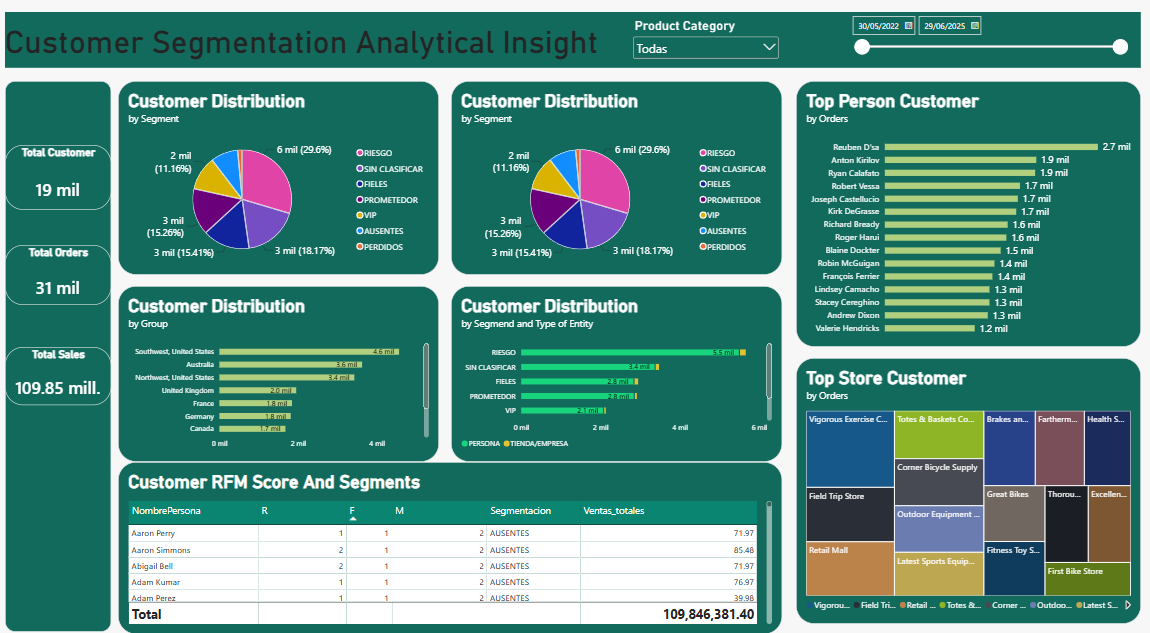

What the dashboard file says about the page in this screenshot:
{"tool":"powerbi","page":{"name":"Análisis de Clientes","canvas":[1920,1080],"ordinal":1},"visuals":[{"type":"textbox","box":[11.7,145,176.7,918.3],"z":0},{"type":"barChart","title":"Customer Distribution","fields":{"Category":["DimTerritorio.UbicacionMapa"],"Y":["FactVentas.Total_Customers"]},"box":[200,486.7,535,293.3],"z":1000},{"type":"barChart","title":"Customer Distribution","fields":{"Category":["DimCliente.Segmentacion"],"Series":["DimCliente.TipoEntidad"],"Y":["FactVentas.Total_Customers"]},"box":[755,486.7,551.7,293.3],"z":2000},{"type":"pieChart","title":"Customer Distribution","fields":{"Category":["DimCliente.Segmentacion"],"Y":["FactVentas.Total_Customers"]},"box":[200,145,535,323.3],"z":3000},{"type":"pieChart","title":"Customer Distribution","fields":{"Category":["DimCliente.Segmentacion"],"Y":["FactVentas.Total_Customers"]},"box":[755,145,551.7,323.3],"z":4000},{"type":"barChart","title":"Top Person Customer ","fields":{"Category":["DimCliente.NombrePersona"],"Y":["Sum(FactVentas.OrderQty)"]},"box":[1330,145,575,443.3],"z":5000},{"type":"treemap","title":"Top Store Customer ","fields":{"Group":["DimCliente.StoreName"],"Values":["Sum(FactVentas.OrderQty)"]},"box":[1330,606.7,575,443.3],"z":6000},{"type":"cardVisual","title":"Total Customer","fields":{"Data":["FactVentas.Total_Customers"]},"box":[11.7,251.7,176.7,108.3],"z":7000},{"type":"cardVisual","title":"Total Orders","fields":{"Data":["FactVentas.Total_Orders"]},"box":[11.7,418.3,176.7,100],"z":8000},{"type":"cardVisual","title":"Total Sales","fields":{"Data":["FactVentas.Ventas_totales"]},"box":[11.7,588.3,176.7,96.7],"z":9000},{"type":"textbox","box":[11.7,30,1893.3,93.3],"z":12000},{"type":"slicer","title":"Customer Distribution","fields":{"Values":["DimProducto.NombreCategoria"]},"box":[1053.3,40,253.3,73.3],"z":13000},{"type":"slicer","fields":{"Values":["DimFecha.Fecha"]},"box":[1416.7,30,470,86.7],"z":14000},{"type":"tableEx","title":"Customer RFM Score And Segments","fields":{"Values":["DimCliente.NombrePersona","DimCliente.R","DimCliente.F","DimCliente.M","DimCliente.Segmentacion","FactVentas.Ventas_totales"]},"box":[200,780,1106.7,286.7],"z":14001}]}

Visuals, with their boxes in screenshot pixels (x1, y1, x2, y2), scaled from the page's 1920x1080 canvas onto the 1150x633 screenshot:
textbox: (x1=7, y1=85, x2=113, y2=623)
"Customer Distribution" barChart: (x1=120, y1=285, x2=440, y2=457)
"Customer Distribution" barChart: (x1=452, y1=285, x2=783, y2=457)
"Customer Distribution" pieChart: (x1=120, y1=85, x2=440, y2=274)
"Customer Distribution" pieChart: (x1=452, y1=85, x2=783, y2=274)
"Top Person Customer " barChart: (x1=797, y1=85, x2=1141, y2=345)
"Top Store Customer " treemap: (x1=797, y1=356, x2=1141, y2=615)
"Total Customer" cardVisual: (x1=7, y1=148, x2=113, y2=211)
"Total Orders" cardVisual: (x1=7, y1=245, x2=113, y2=304)
"Total Sales" cardVisual: (x1=7, y1=345, x2=113, y2=401)
textbox: (x1=7, y1=18, x2=1141, y2=72)
"Customer Distribution" slicer: (x1=631, y1=23, x2=783, y2=66)
slicer - DimFecha.Fecha: (x1=849, y1=18, x2=1130, y2=68)
"Customer RFM Score And Segments" tableEx: (x1=120, y1=457, x2=783, y2=625)
